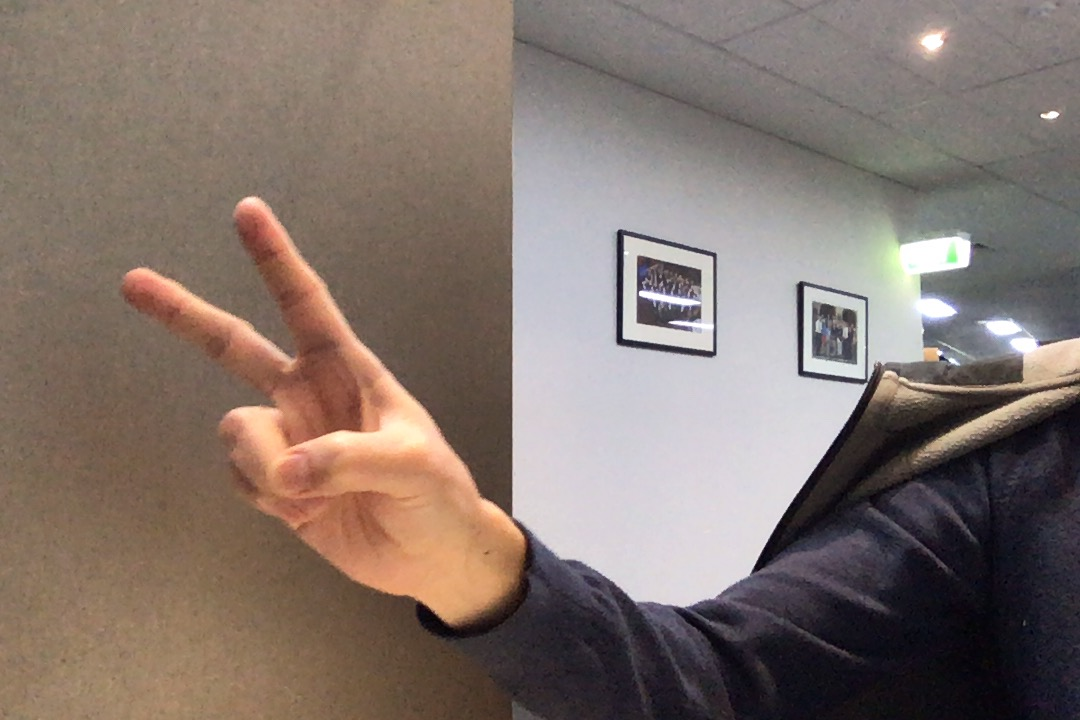peacesign: (112, 185, 501, 605)
